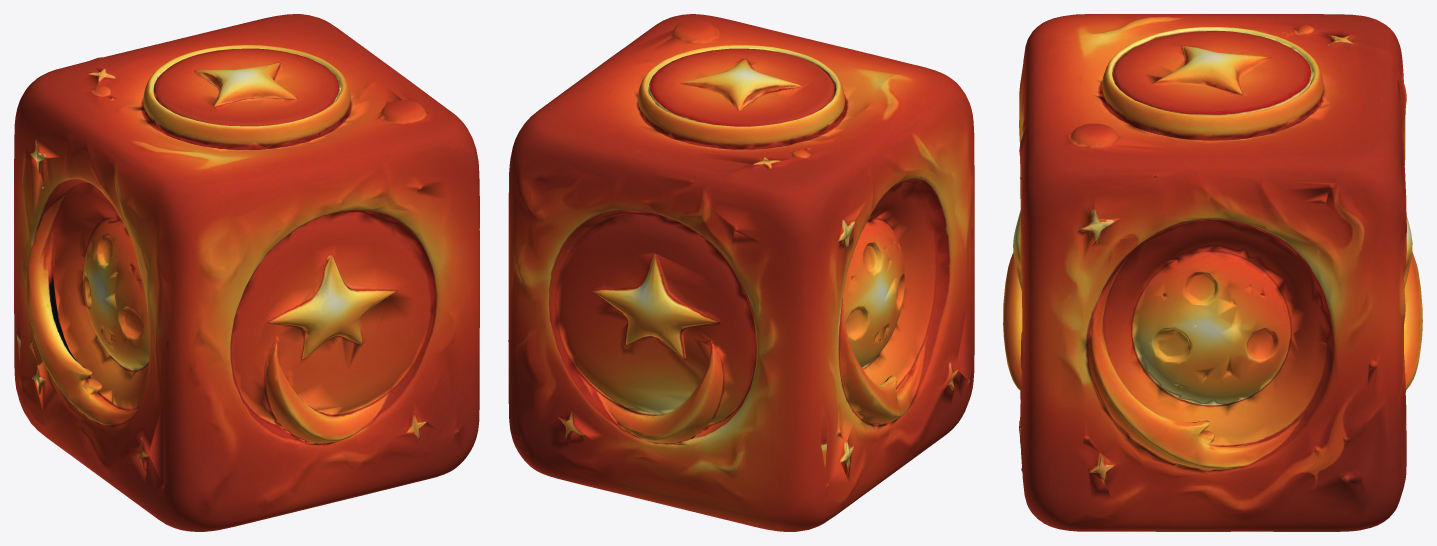
The model's file is fire.glb.
3 renders of one model, left to right at view 1: azimuth 30°, elevation 25°; view 2: azimuth 150°, elevation 25°; view 3: azimuth 270°, elevation 25°, orthographic. The views are drawn at different scales.
Parts seen in each view (by area): view 1: tripo_node_fd079a3f-4e7d-4d07-a85e-8804538381c3; view 2: tripo_node_fd079a3f-4e7d-4d07-a85e-8804538381c3; view 3: tripo_node_fd079a3f-4e7d-4d07-a85e-8804538381c3.
Boxes of the visible parts, x1,y1,x2,y2 form: tripo_node_fd079a3f-4e7d-4d07-a85e-8804538381c3: (14, 14, 479, 531); tripo_node_fd079a3f-4e7d-4d07-a85e-8804538381c3: (508, 14, 974, 531); tripo_node_fd079a3f-4e7d-4d07-a85e-8804538381c3: (1003, 14, 1422, 531).
Size of the model in its own units: 0.9031 by 0.9799 by 0.8831.
Materials: 1 (1 with a texture image).
